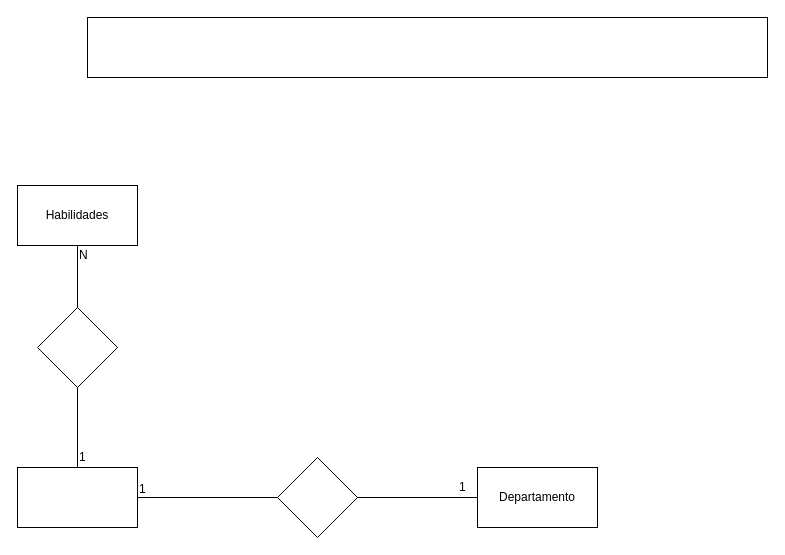
The diagram is 785 pixels wide and 555 high, and some of its shapes have lost their labels. The centre of each missing label's shape, as x and y in pixels:
"Funcionário" goes at pixel 77 497.
"Modelagem Conceitual" goes at pixel 427 47.
